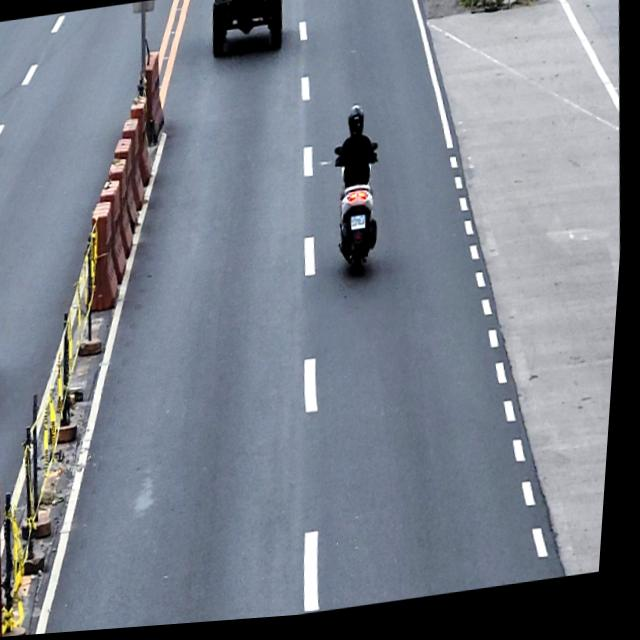Car: (207, 0, 288, 64)
License-Plate: (353, 220, 369, 236)
Motorcycle: (329, 143, 389, 283)
